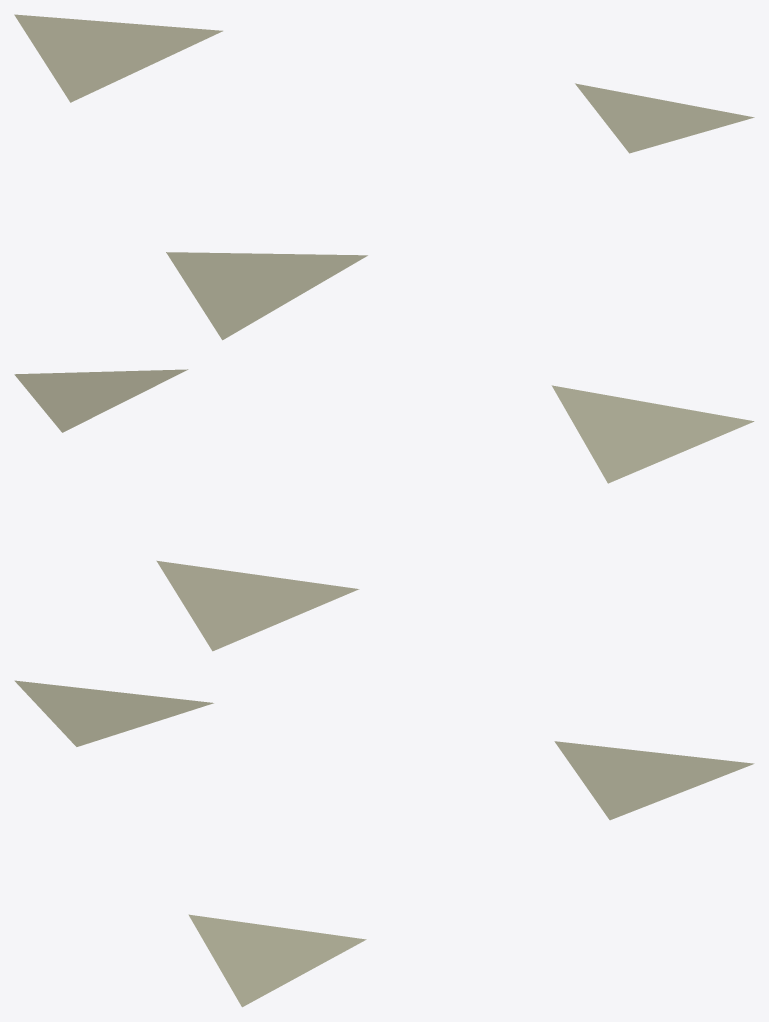
File: homomonument.lod2.glb
3 renders of one model, top to bottom at view 1: azimuth 30°, elevation 25°; view 2: azimuth 150°, elevation 25°; view 3: azimuth 270°, elevation 25°, orthographic. The views are drawn at different scales.
Parts seen in each view (by area): view 1: lod2; view 2: lod2; view 3: lod2.
Part boxes in pixels (left/top/right/bottom): lod2: left=14, top=14, right=754, bottom=340; lod2: left=14, top=369, right=754, bottom=651; lod2: left=14, top=680, right=754, bottom=1007.
Bounding box in the file's own units: 34.73 × 2.07 × 35.66.
